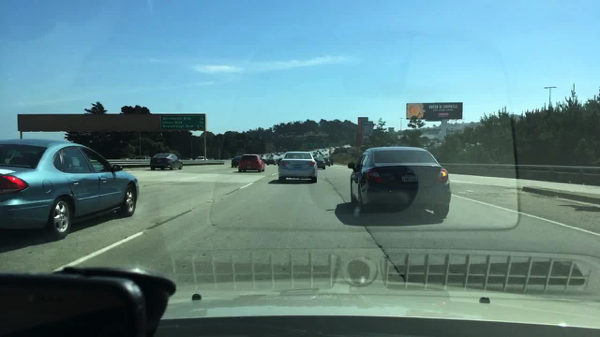car: (0, 139, 139, 240), (346, 147, 451, 222), (278, 151, 318, 185), (149, 152, 182, 172), (231, 155, 244, 168), (268, 153, 280, 166), (313, 157, 326, 169), (133, 156, 150, 162), (258, 155, 268, 164), (323, 160, 332, 168), (195, 156, 207, 161), (184, 157, 195, 162), (313, 150, 319, 156), (119, 157, 130, 160)
traffic sign: (159, 113, 204, 130)
